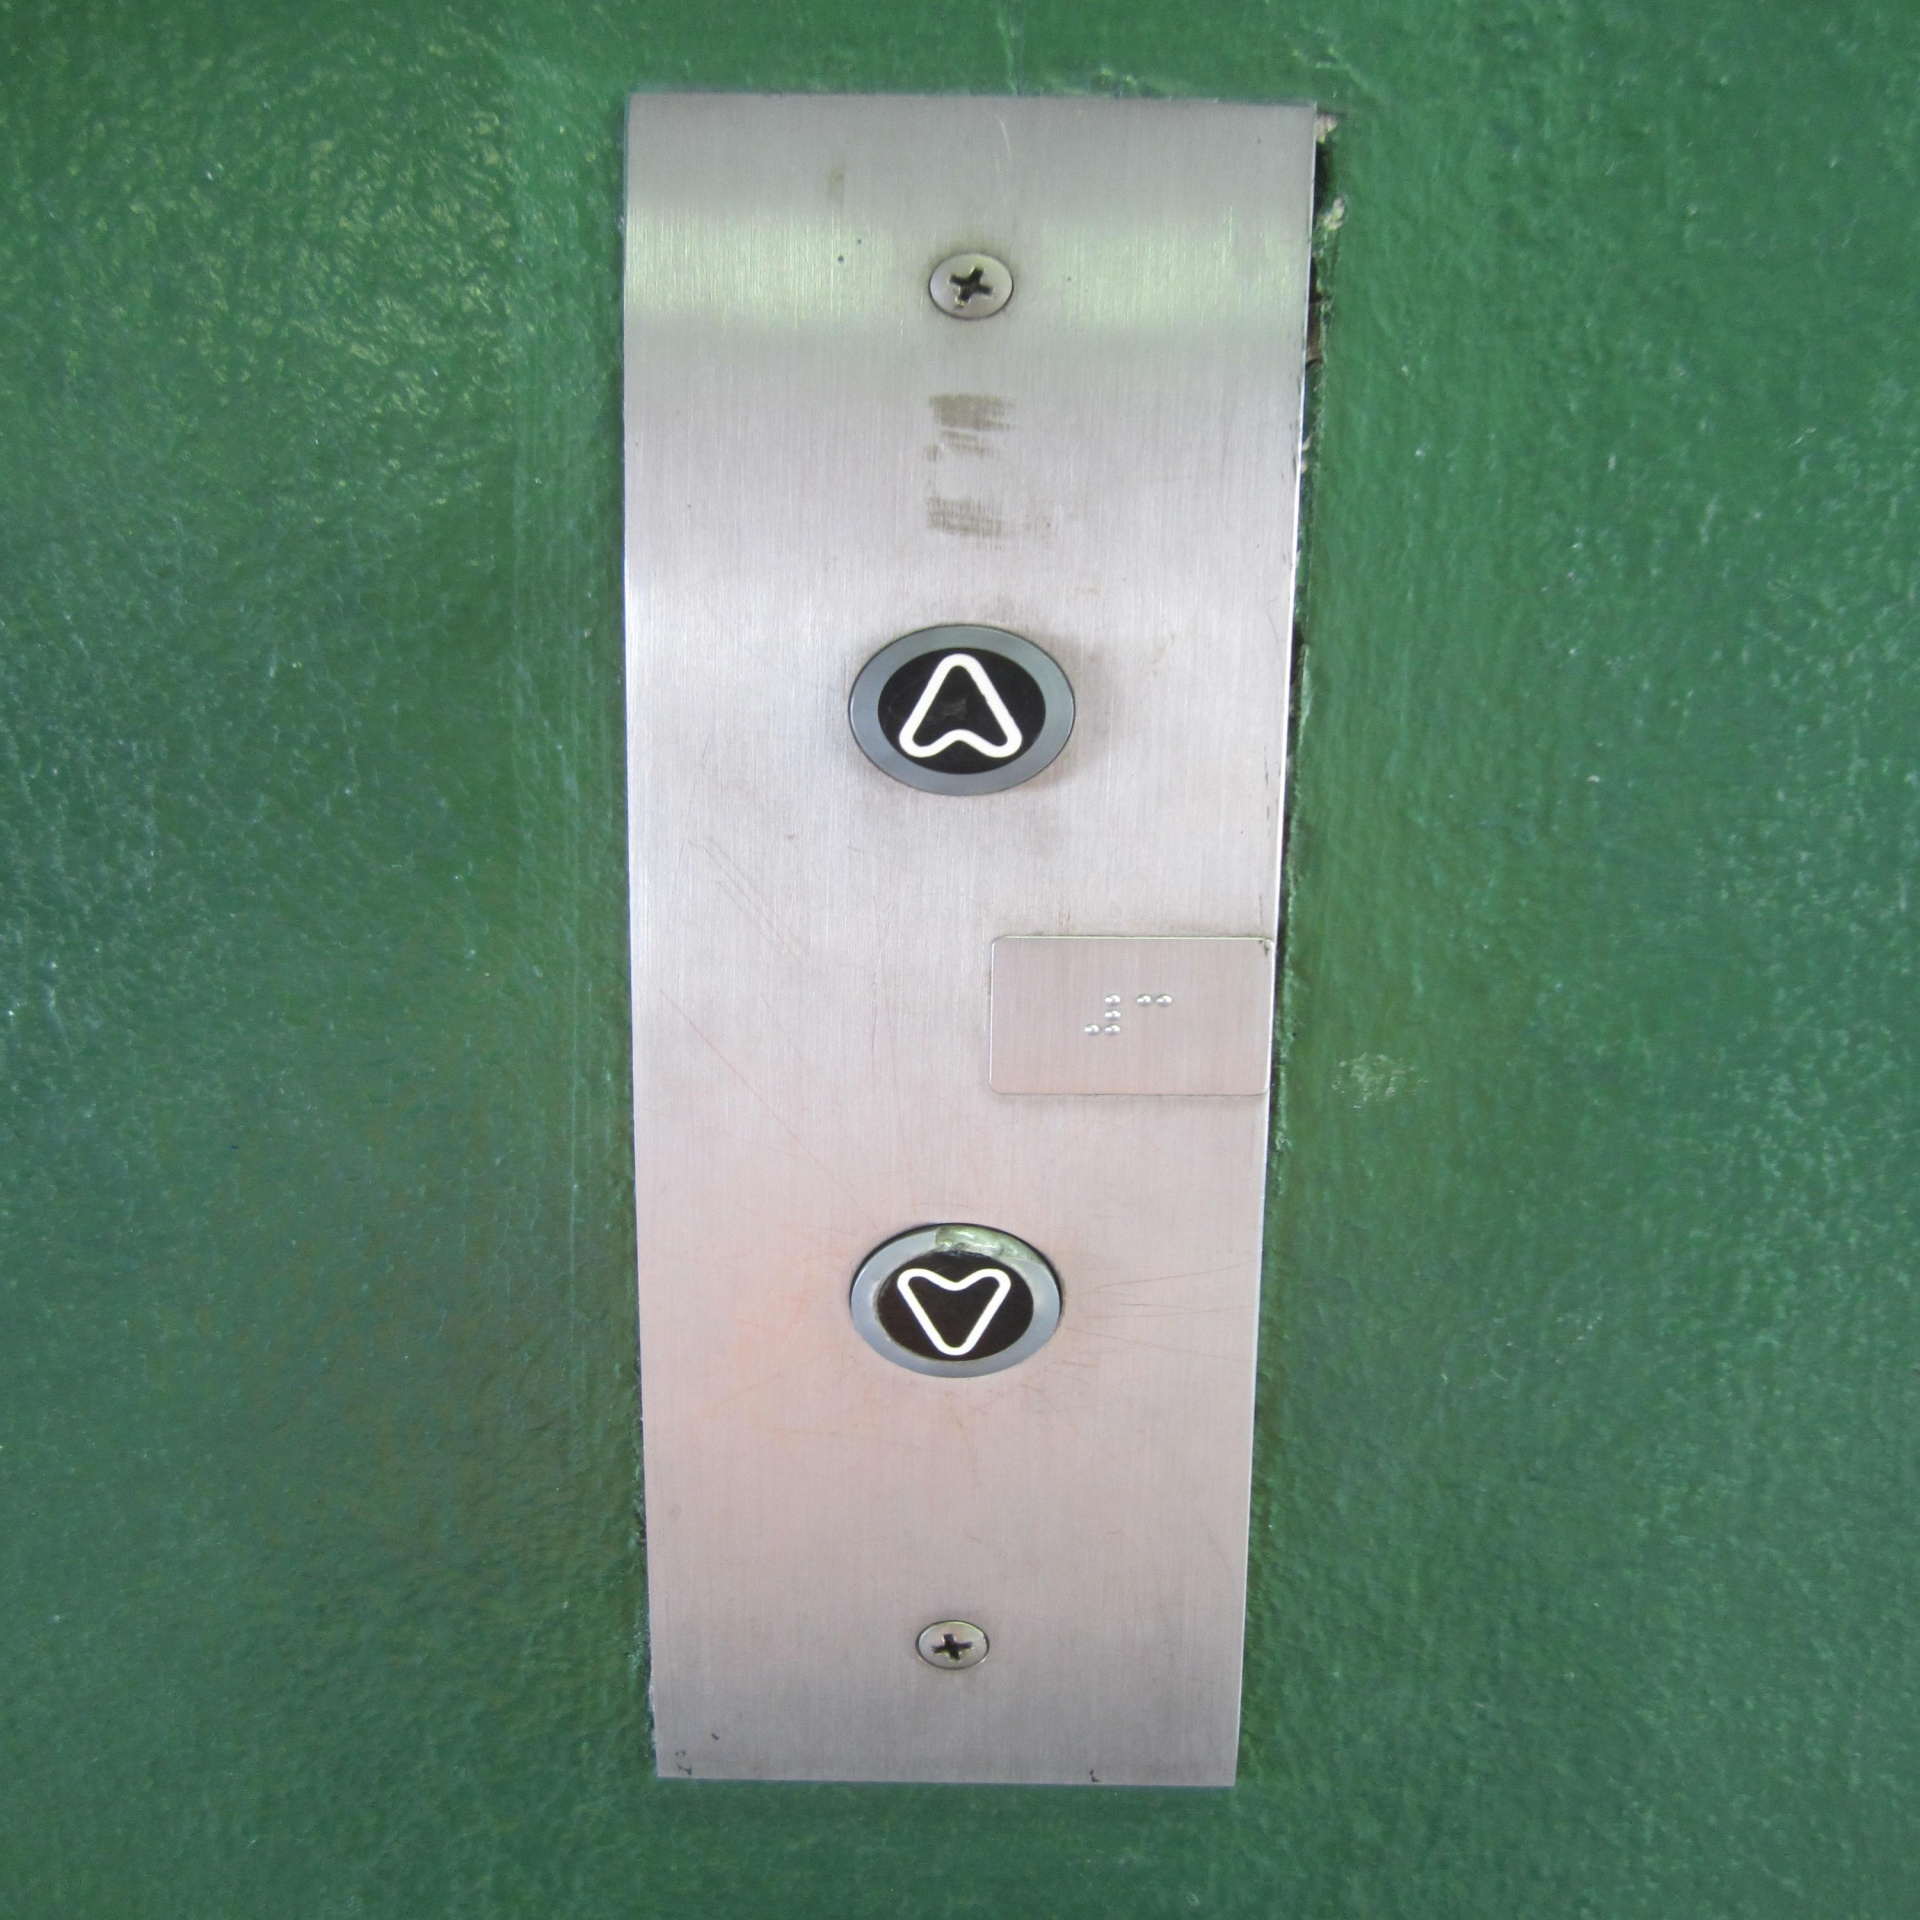down: (835, 1210, 1071, 1391)
up: (839, 614, 1085, 812)
